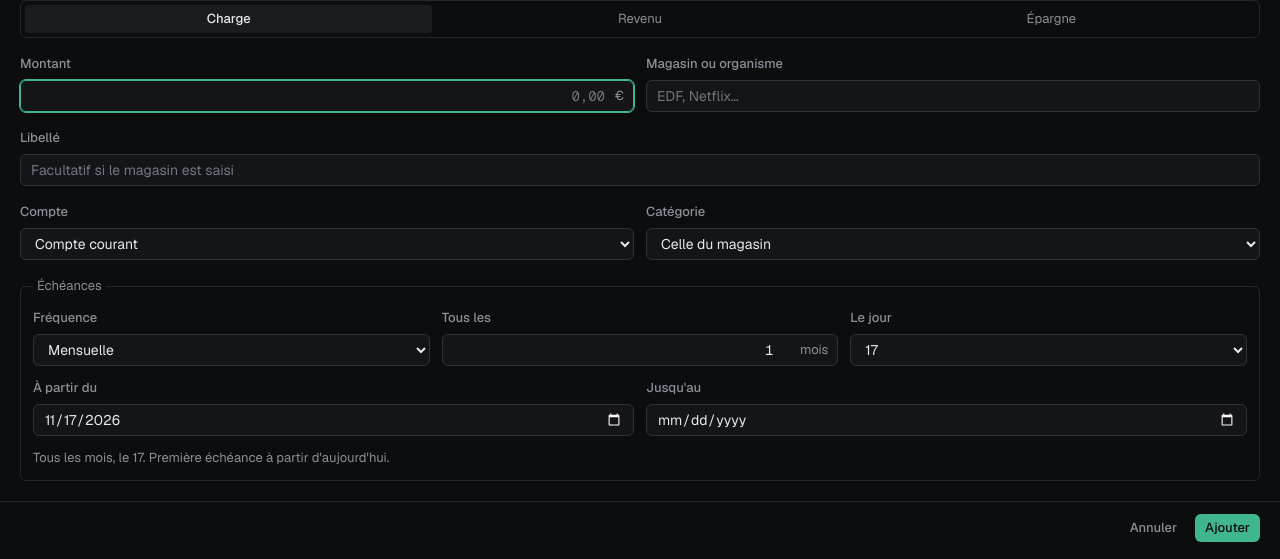
Test case: RuleForm › asks for the savings account of a saving and shows server errors
This screenshot has width=1280, height=559.
Click the radio button labelled "Épargne" at coordinates (1051, 19), box [848, 5, 1255, 33]
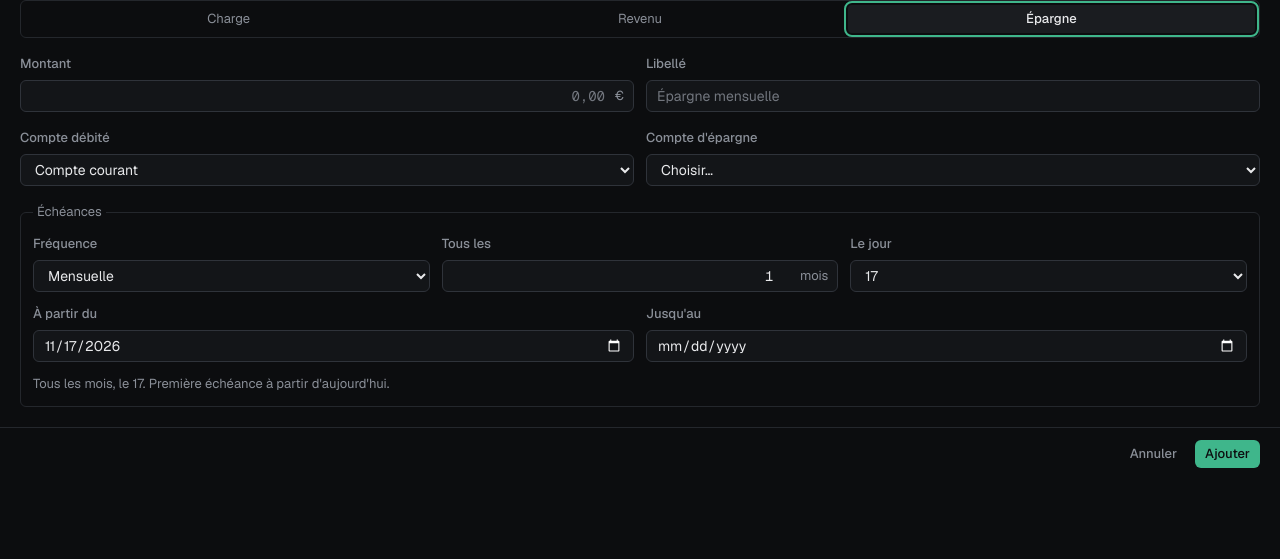
expect the label labelled "Magasin ou organisme" is gone: met
Type "200" into the field labelled "Montant" at coordinates (327, 96), box [20, 80, 634, 112]
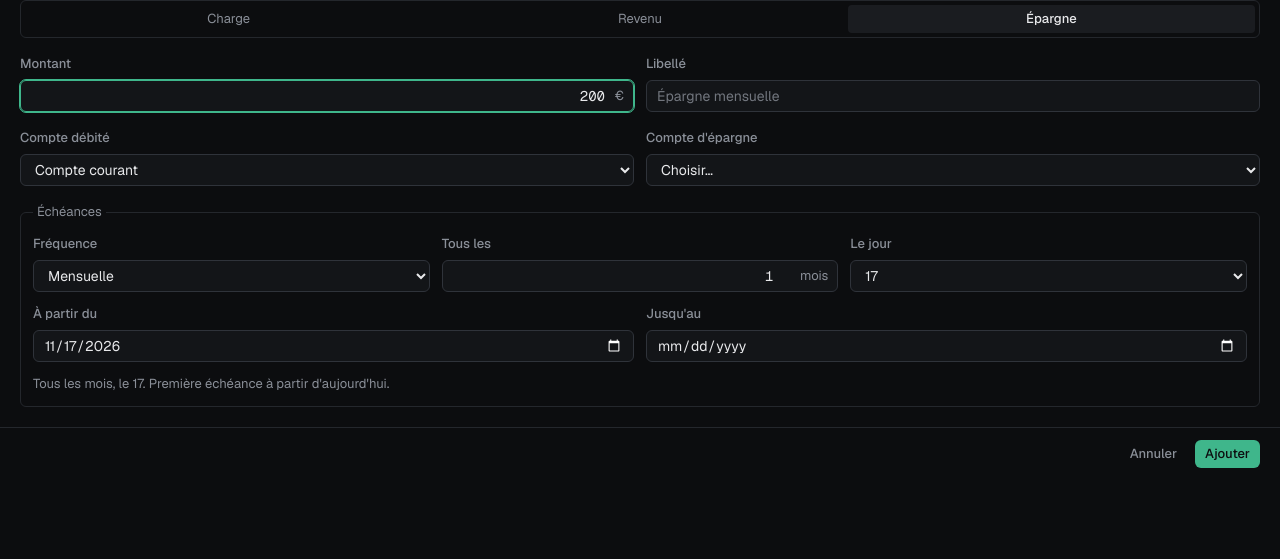
Type "Épargne" into the field labelled "Libellé" at coordinates (953, 96), box [646, 80, 1260, 112]
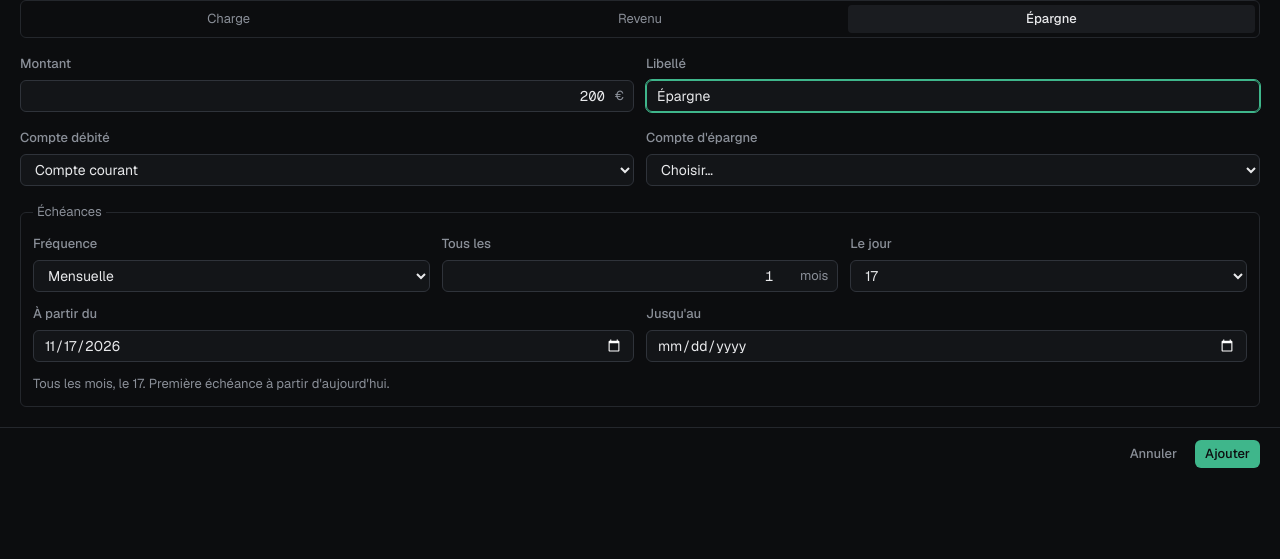
Click the button "Ajouter" at coordinates (1228, 454), box [1195, 440, 1260, 468]
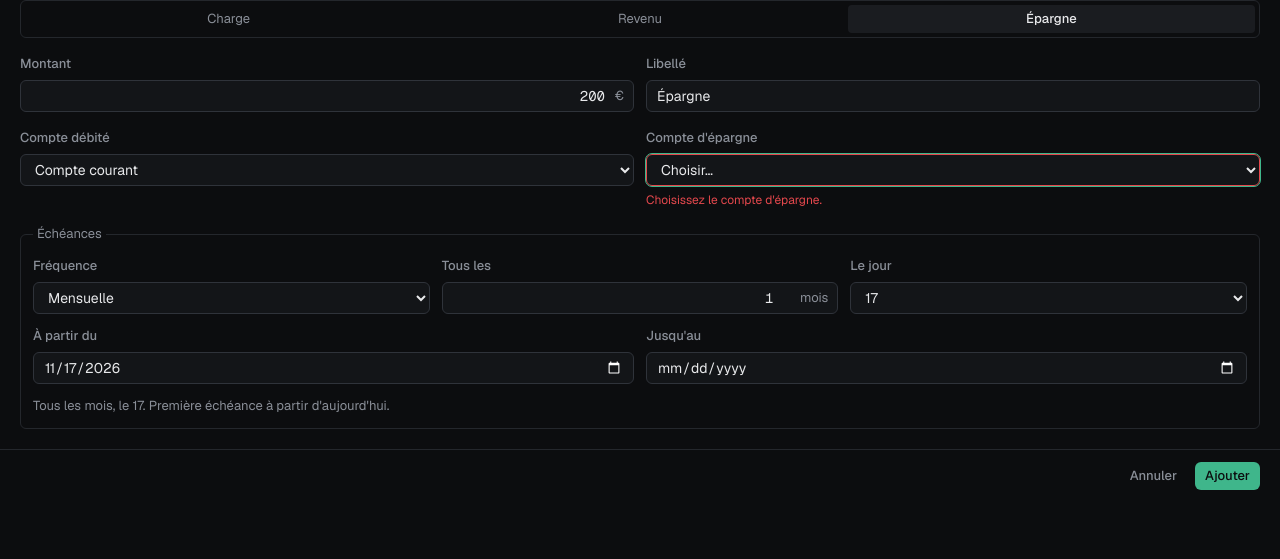
expect the text "Choisissez le compte d'épargne." is shown: met, box [646, 192, 822, 208]
Select "Livret A" in the dropdown labelled "Compte d'épargne" at coordinates (953, 170), box [646, 154, 1260, 186]
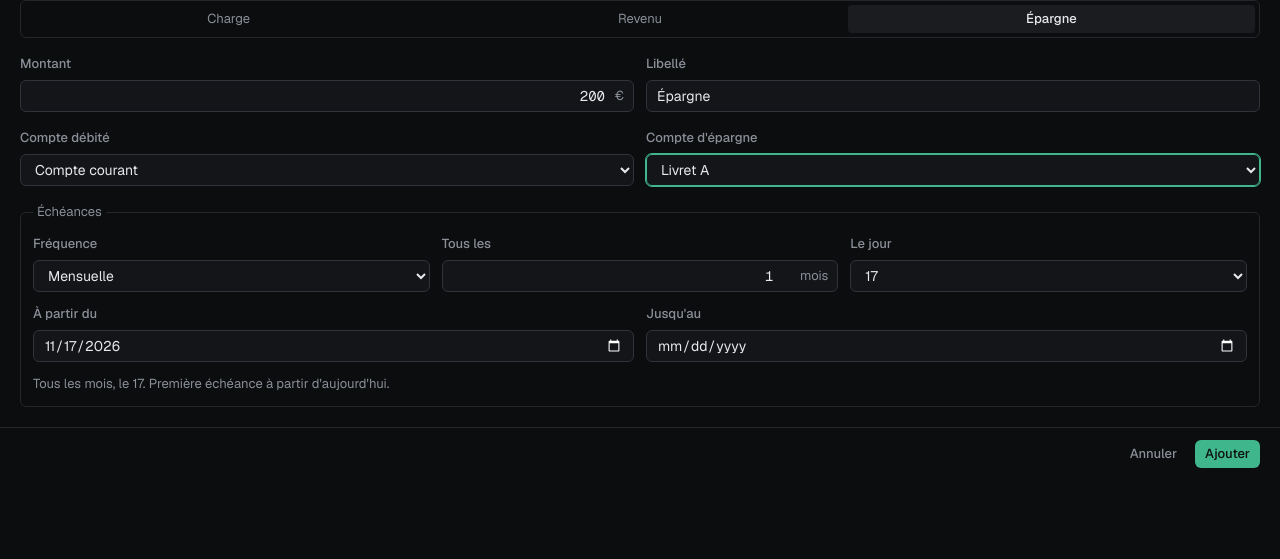
Click the button "Ajouter" at coordinates (1228, 454), box [1195, 440, 1260, 468]
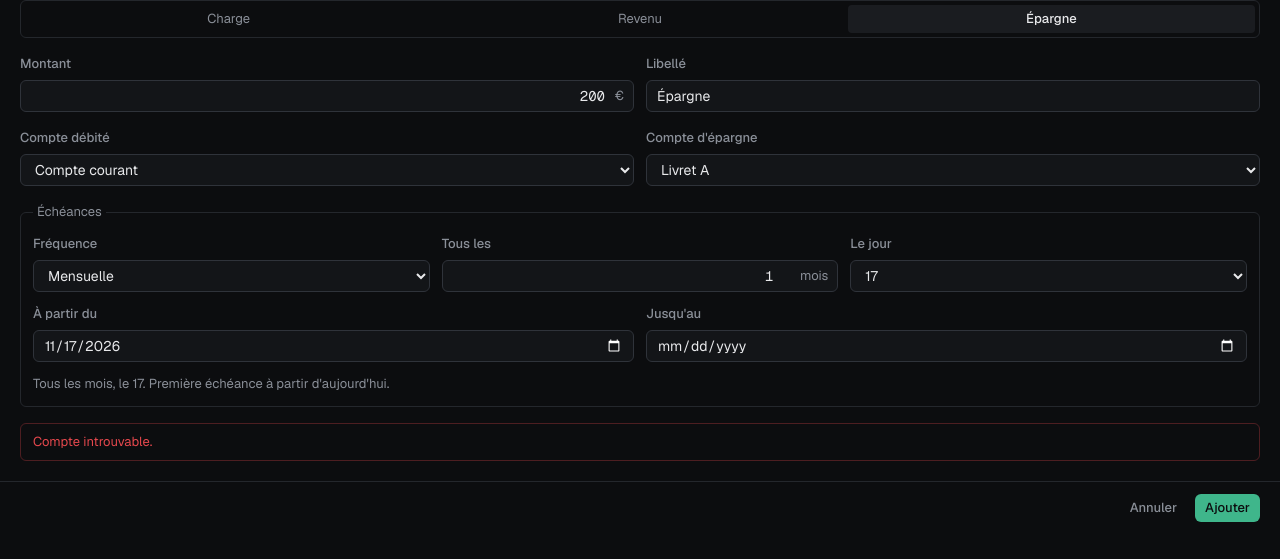
expect the message reads "Compte introuvable.": met, box [33, 433, 152, 450]
